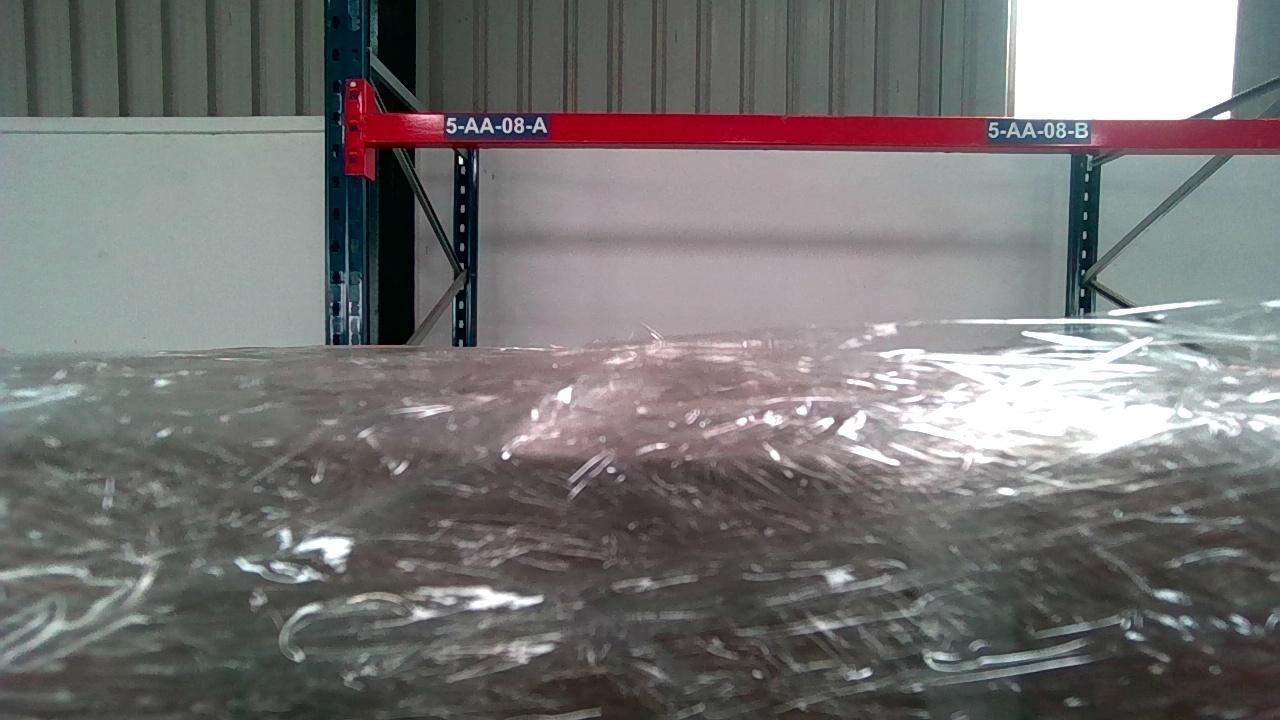h_rack: (363, 114, 1279, 149)
